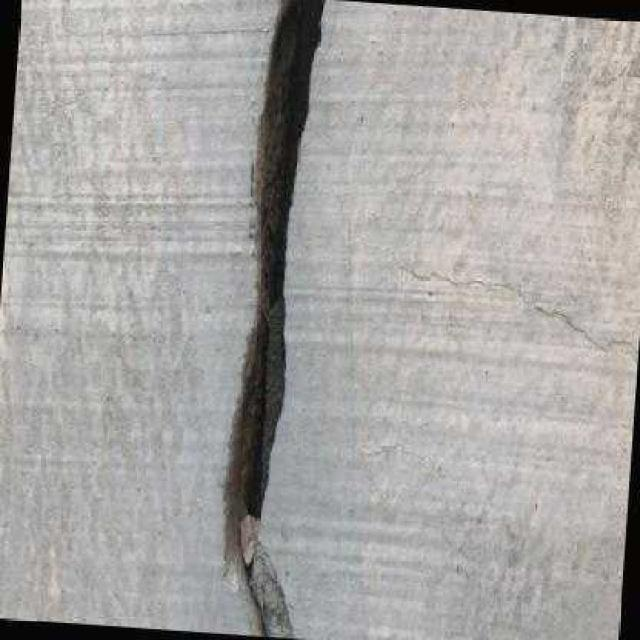D00: (229, 0, 329, 637)
